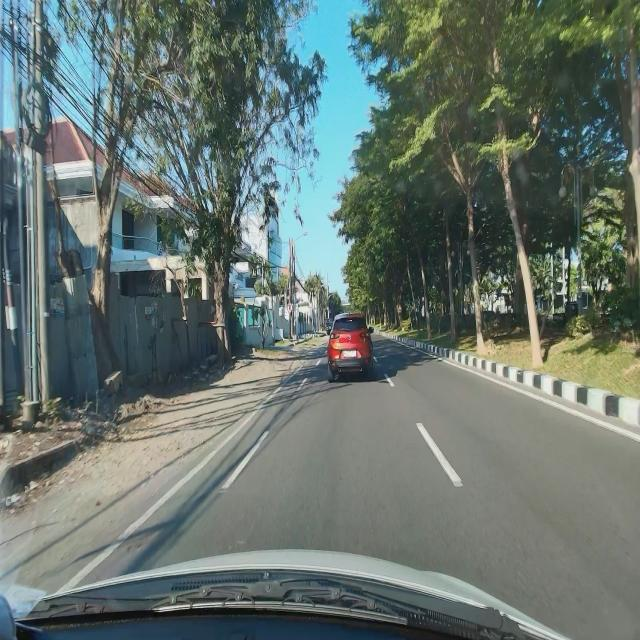car: (327, 311, 375, 385)
license-plate: (343, 349, 357, 359)
